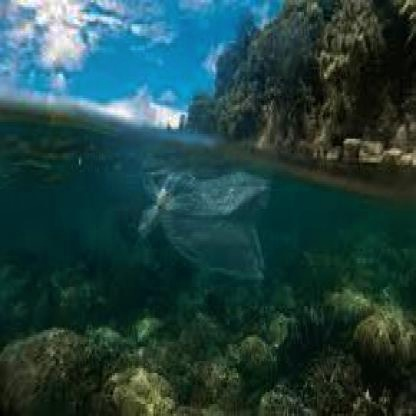pbag: (138, 163, 274, 282)
